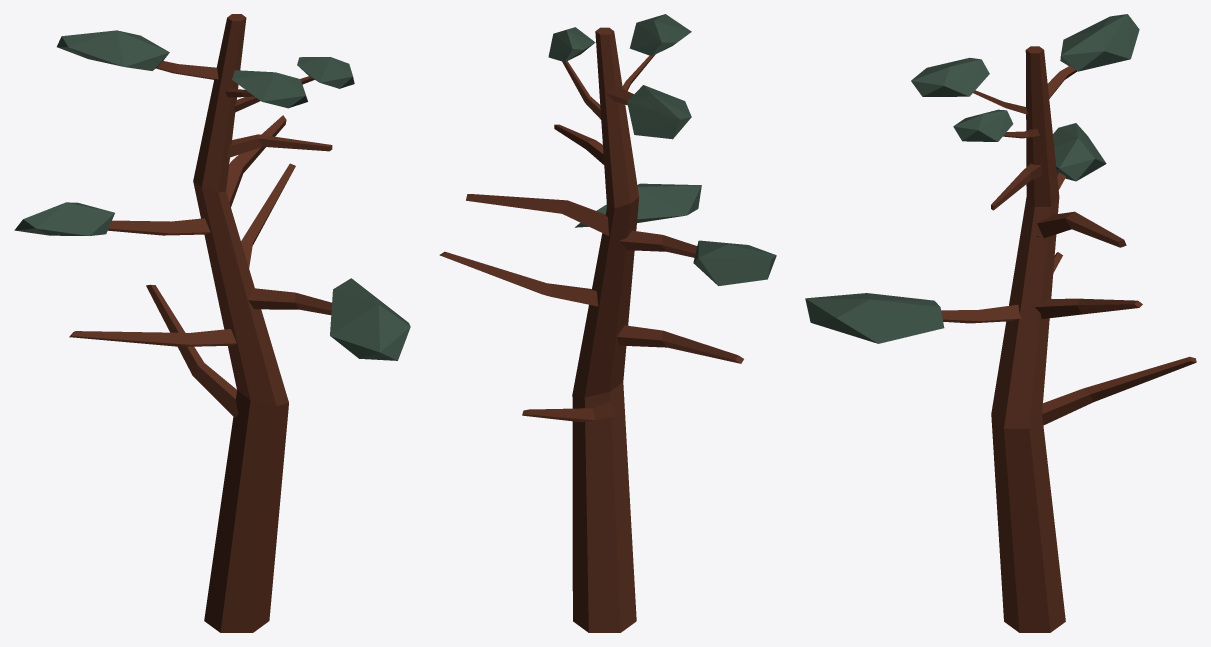
Rendered from tree.glb.
3 views of the same model, side by side, from view 1: azimuth 30°, elevation 25°; view 2: azimuth 150°, elevation 25°; view 3: azimuth 270°, elevation 25° (orthographic). The views are drawn at different scales.
Visible parts, largest first — view 1: Cylinder, Icosphere.004, Icosphere, Icosphere.003, Cube.008, Cube.005, Icosphere.002, Cube.004, Cube.006, Icosphere.001, Cube, Cube.002 (+2 smaller); view 2: Cylinder, Icosphere.003, Icosphere, Icosphere.004, Cube.002, Cube.005, Cube.003, Icosphere.002, Cube.006, Cube.008, Icosphere.001, Cube (+1 smaller); view 3: Cylinder, Icosphere.004, Icosphere, Cube.008, Icosphere.002, Icosphere.003, Cube.003, Icosphere.001, Cube.002, Cube.004, Cube.
Boxes of the visible parts, x1,y1,x2,y2 form: Cylinder: (193, 14, 288, 632); Icosphere.004: (330, 278, 410, 360); Icosphere: (57, 30, 169, 70); Icosphere.003: (14, 202, 114, 235); Cube.008: (146, 284, 238, 418); Cube.005: (69, 329, 236, 346); Icosphere.002: (232, 70, 307, 108); Cube.004: (248, 288, 331, 315); Cube.006: (108, 218, 210, 235); Icosphere.001: (297, 57, 354, 88); Cube: (227, 134, 332, 158); Cube.002: (226, 115, 286, 206); Cylinder: (572, 27, 639, 632); Icosphere.003: (693, 240, 776, 286); Icosphere: (627, 85, 691, 139); Icosphere.004: (575, 183, 701, 227); Cube.002: (466, 194, 608, 235); Cube.005: (617, 325, 743, 363); Cube.003: (439, 251, 598, 306); Icosphere.002: (629, 14, 691, 56); Cube.006: (618, 230, 697, 257); Cube.008: (522, 401, 615, 422); Icosphere.001: (548, 27, 595, 62); Cube: (554, 124, 604, 164); Cylinder: (991, 46, 1065, 632); Icosphere.004: (805, 293, 944, 343); Icosphere: (1060, 14, 1139, 71); Cube.008: (1042, 356, 1196, 425); Icosphere.002: (911, 57, 989, 96); Icosphere.003: (1053, 123, 1106, 181); Cube.003: (1035, 298, 1142, 318); Icosphere.001: (953, 109, 1013, 141); Cube.002: (1037, 211, 1126, 247); Cube.004: (941, 304, 1021, 323); Cube: (991, 163, 1041, 210).
Bounding box in the file's own units: 5.36 × 10 × 6.21.
